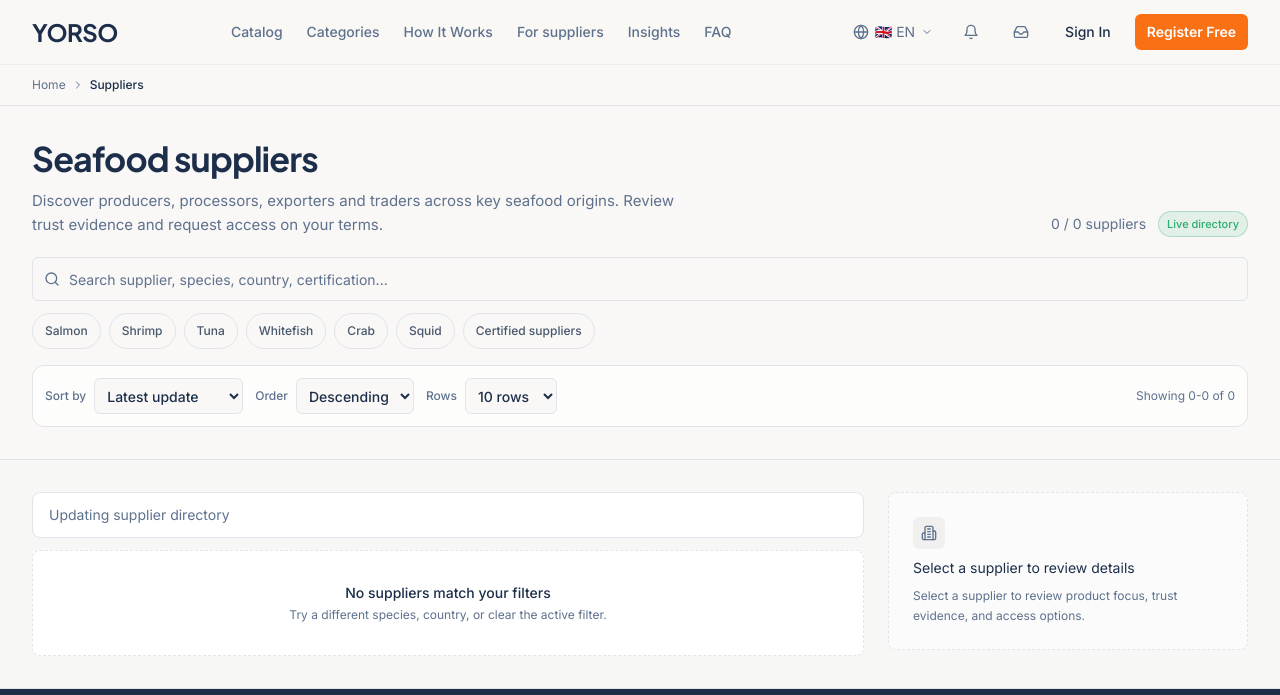
Test: /suppliers — implementation quality fixes › uses API results as the source of truth instead of refiltering remote localized rows
Type "private server match" into the search field named "search suppliers" at point(640, 279), box 32,257 -> 1248,301
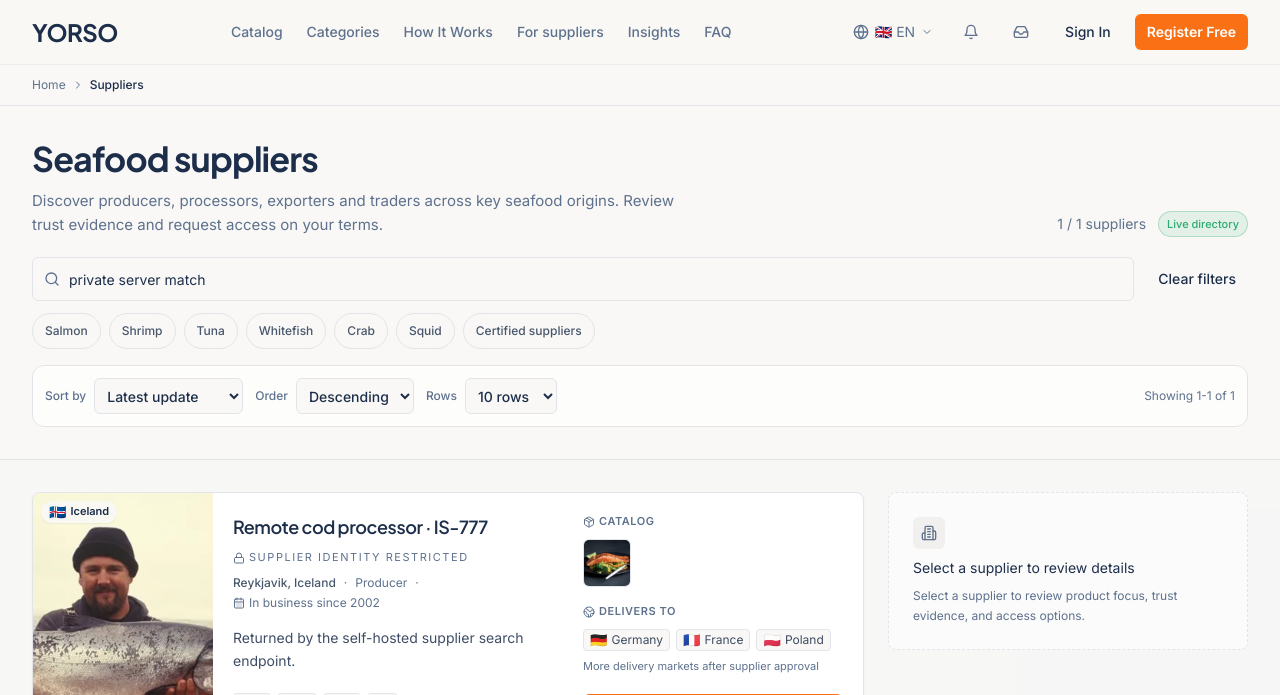
Expected: the link "Remote cod processor · IS-777" is shown, 233,515 -> 488,538
